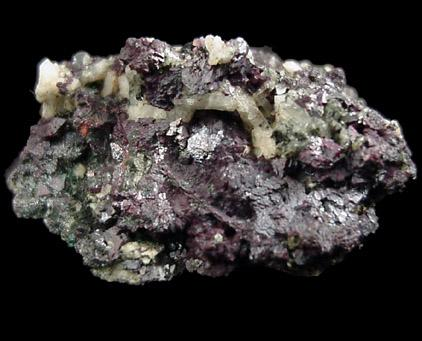cuprite: (7, 85, 417, 276), (113, 38, 265, 110), (291, 67, 348, 116)
